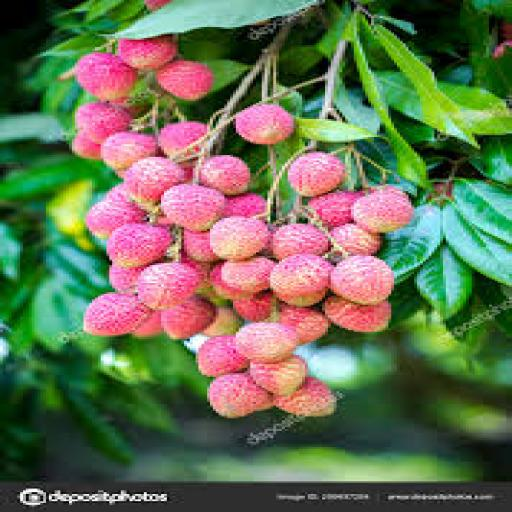lychee: (331, 256, 394, 304), (75, 53, 138, 100), (208, 374, 273, 418), (162, 184, 224, 230), (139, 264, 201, 310), (124, 157, 184, 203), (84, 293, 149, 335), (107, 224, 172, 266), (210, 217, 270, 261), (351, 192, 414, 232), (288, 152, 345, 196), (271, 255, 333, 295), (236, 323, 299, 362), (75, 101, 132, 144), (274, 377, 336, 416), (101, 132, 158, 174), (323, 296, 391, 331), (236, 105, 296, 144), (87, 199, 146, 237), (156, 60, 212, 100), (162, 296, 215, 338), (196, 336, 250, 376), (251, 356, 307, 394), (271, 224, 330, 259), (222, 256, 276, 293), (118, 37, 178, 70), (280, 305, 330, 344), (308, 192, 362, 228), (199, 156, 250, 194), (159, 121, 207, 158), (210, 262, 253, 301), (331, 224, 382, 255), (233, 293, 276, 322), (202, 307, 241, 337), (185, 229, 218, 263), (225, 193, 267, 218), (110, 266, 146, 293), (277, 289, 327, 306), (72, 132, 100, 160), (133, 312, 163, 338)
